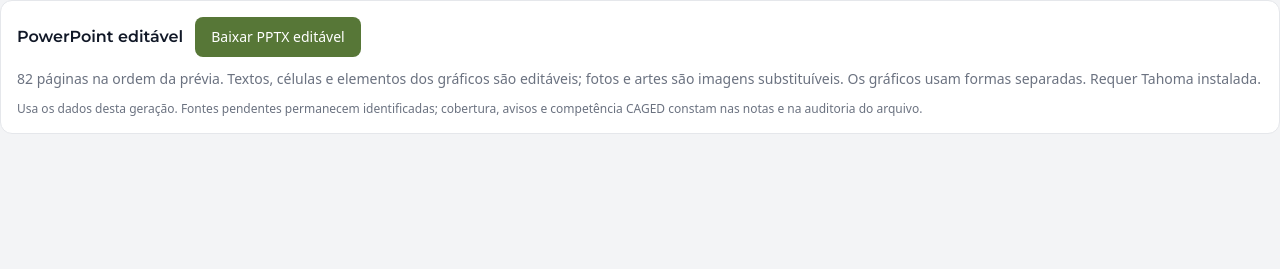
Maceió exportação na interface › cancela o worker, ignora conclusão tardia e permite nova tentativa
The width and height of the screenshot is (1280, 269).
Later steps or results of the test are not shown.
Click the button "Baixar PPTX editável" at (278, 37), box left=195, top=17, right=361, bottom=57
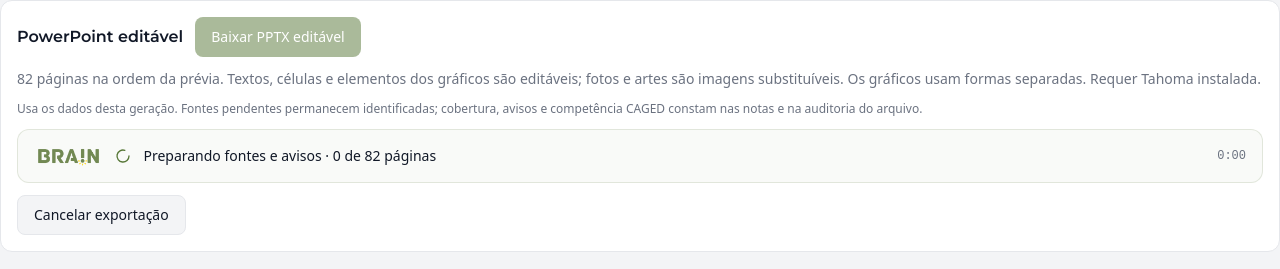
Click the button "Cancelar exportação" at (101, 215), box left=17, top=195, right=186, bottom=235
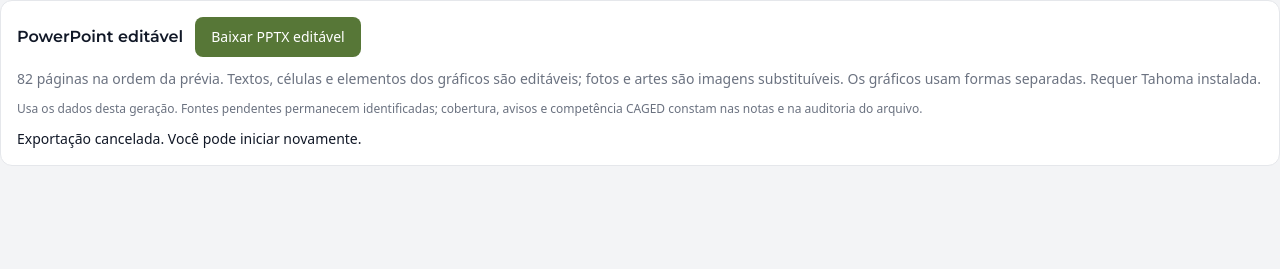
Check: the message shows "cancelada", box left=17, top=129, right=362, bottom=148
